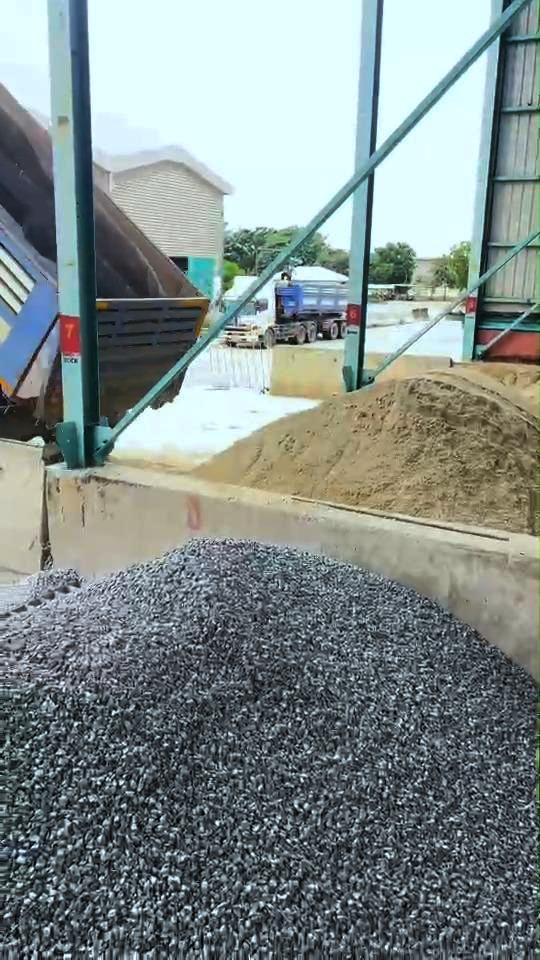gravel: (1, 540, 536, 959), (0, 568, 80, 635)
sand: (195, 368, 538, 533), (454, 362, 537, 415)
